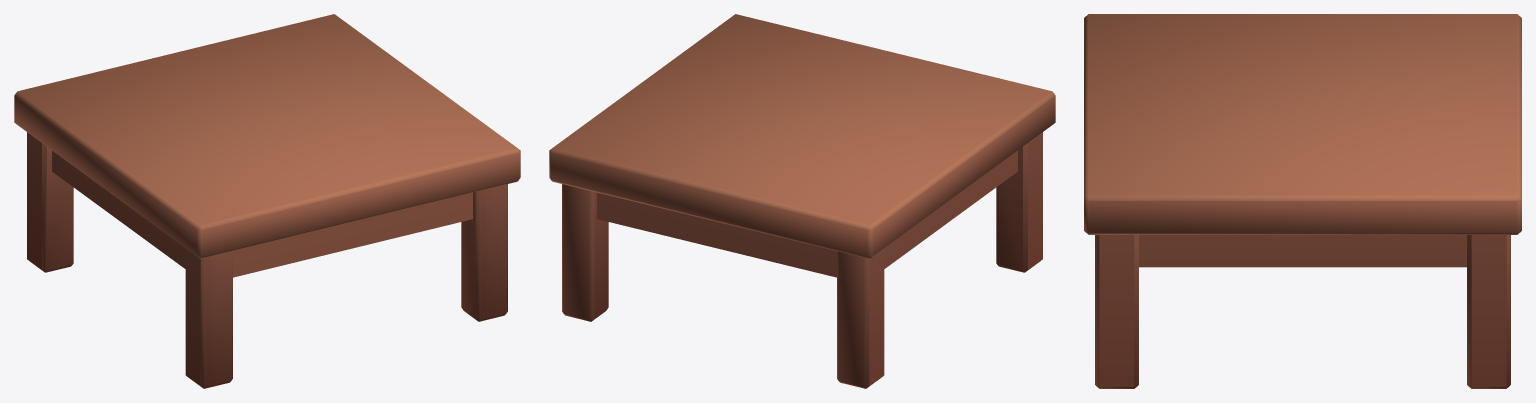
3 views of the same model, side by side, from view 1: azimuth 30°, elevation 25°; view 2: azimuth 150°, elevation 25°; view 3: azimuth 270°, elevation 25° (orthographic). The views are drawn at different scales.
Visible parts, largest first — view 1: table_medium; view 2: table_medium; view 3: table_medium.
Boxes of the visible parts, box(x1,y1,x2,y2) form: table_medium: box(14, 14, 520, 388); table_medium: box(549, 14, 1055, 388); table_medium: box(1084, 14, 1521, 388).
Bounding box in the file's own units: 2 × 1 × 2.
Materials: 1 (1 with a texture image).
